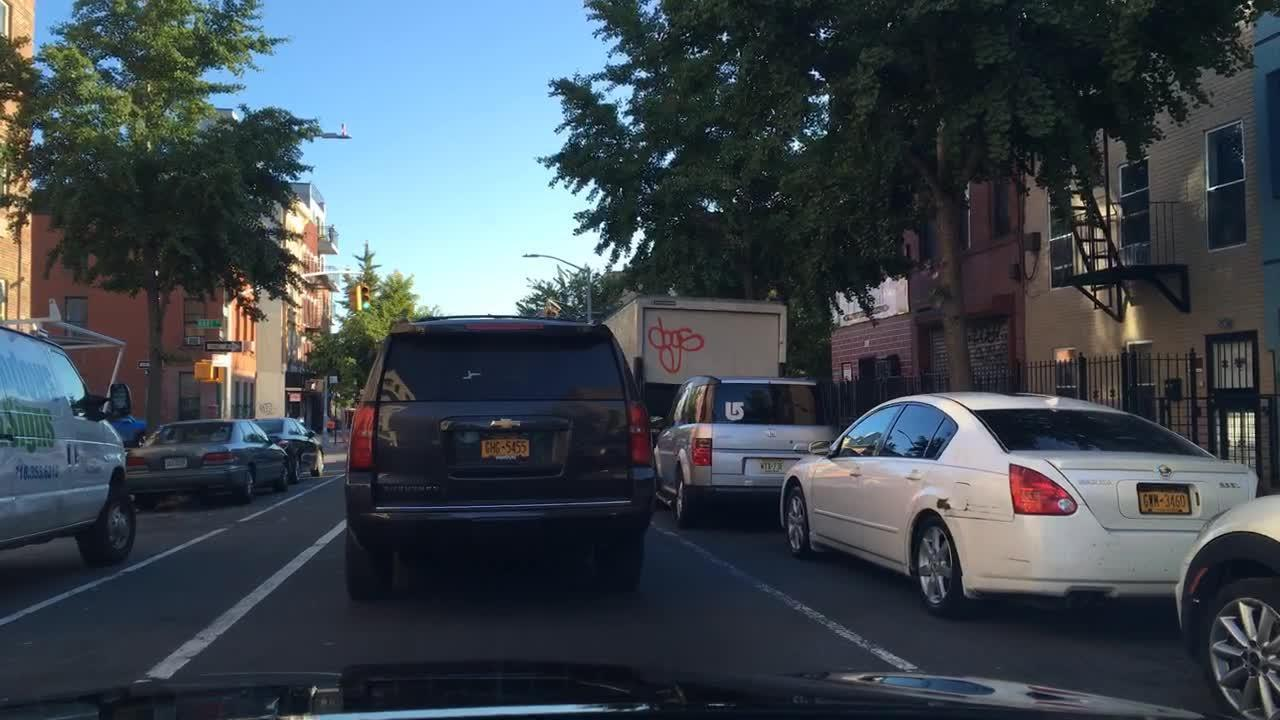Honda: (764, 426, 777, 441)
chevrolet: (489, 414, 521, 433)
